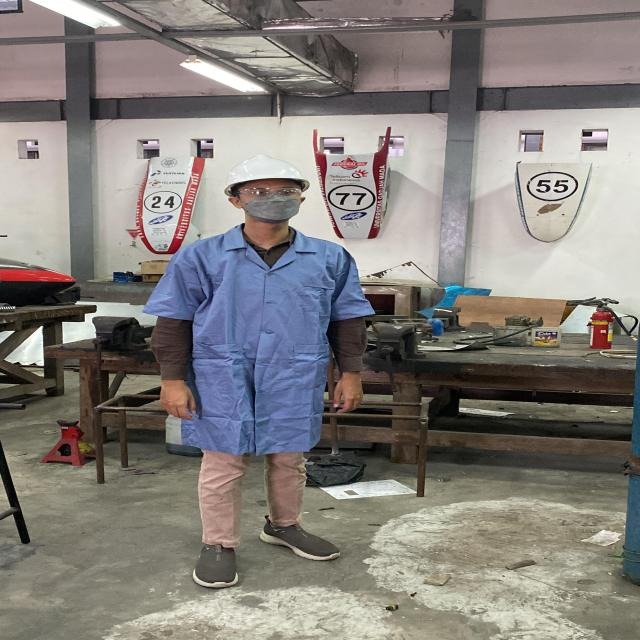face_mask: (236, 183, 307, 224)
glasses: (228, 185, 306, 201)
hand_noglove: (152, 378, 207, 422), (320, 370, 368, 415)
head_helmet: (221, 152, 309, 191)
person: (140, 151, 396, 598)
shoes: (176, 531, 252, 592), (249, 514, 341, 562)
